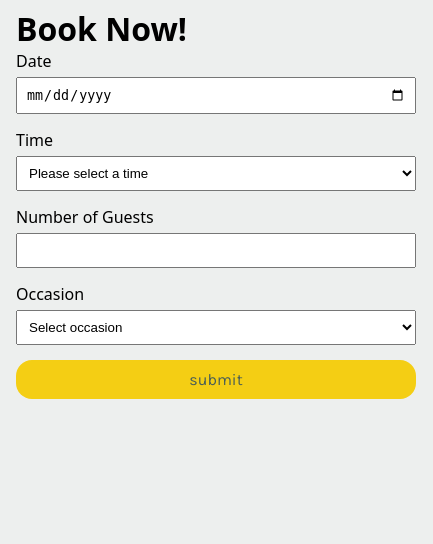
Test: renders the form and checks for validation errors
Try to submit the form without filling it out
Click the button "submit".
click(216, 380)  # box x1=16 y1=360 x2=416 y2=399
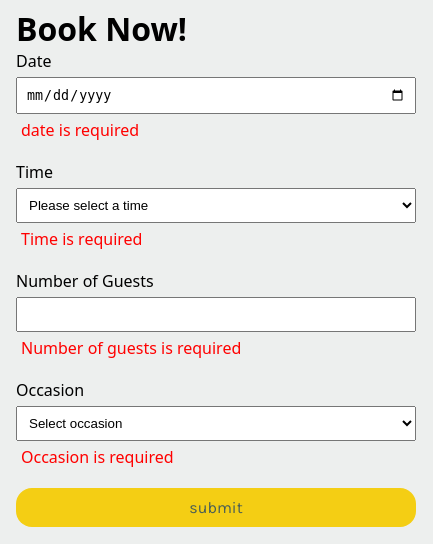
Result: the text "date is required" is shown at x1=21 y1=119 x2=139 y2=141
Result: the text "Time is required" is shown at x1=21 y1=228 x2=142 y2=250
Result: the text "Number of guests is required" is shown at x1=21 y1=337 x2=241 y2=359
